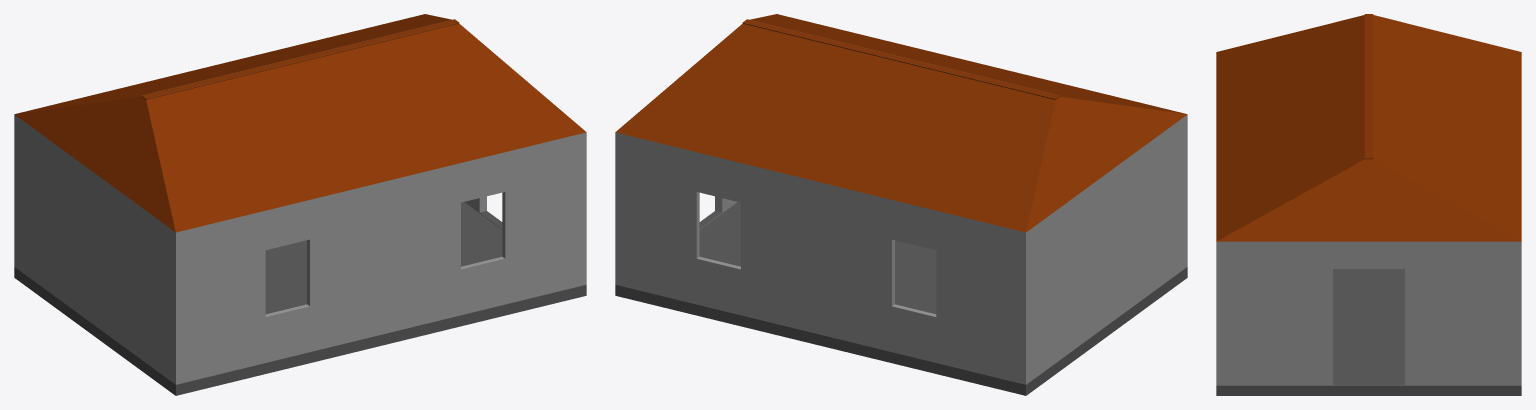
File: Home.fbx
3 renders of one model, left to right at view 1: azimuth 30°, elevation 25°; view 2: azimuth 150°, elevation 25°; view 3: azimuth 270°, elevation 25°, orthographic. The views are drawn at different scales.
Parts seen in each view (by area): view 1: Cube; view 2: Cube; view 3: Cube.
Part boxes in pixels (x1,y1,x2,y2): Cube: [14, 14, 586, 395]; Cube: [615, 14, 1187, 395]; Cube: [1216, 14, 1521, 395].
Bounding box in the file's own units: 186 × 98.47 × 127.
